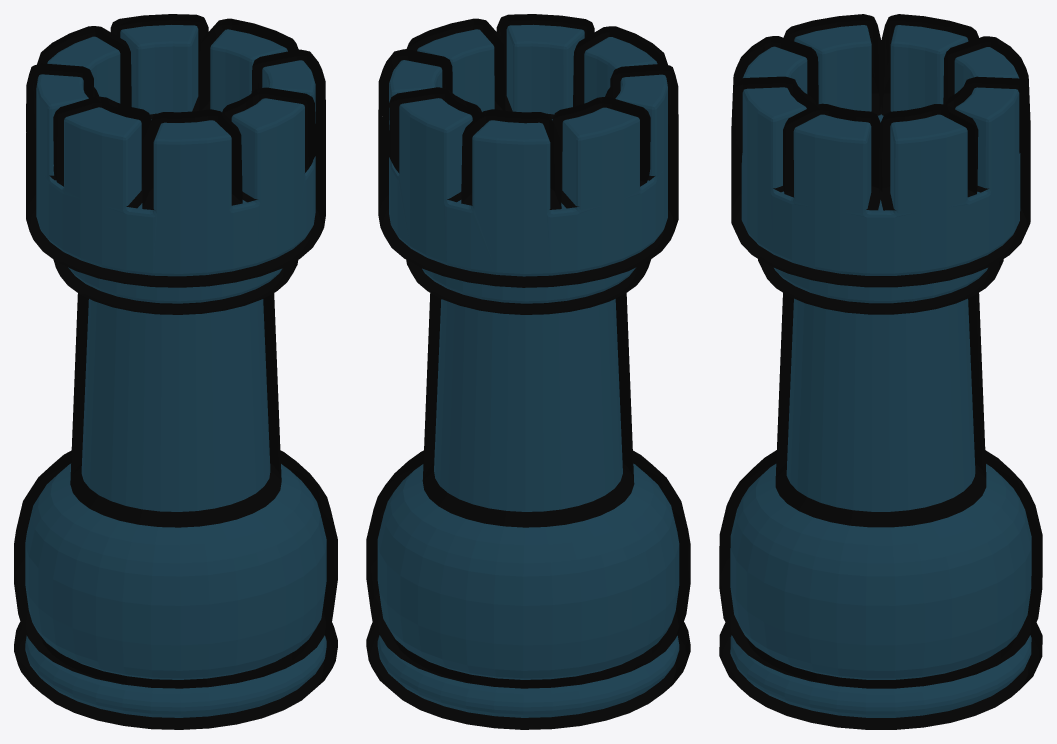
File: cizgi_r_b.glb
3 renders of one model, left to right at view 1: azimuth 30°, elevation 25°; view 2: azimuth 150°, elevation 25°; view 3: azimuth 270°, elevation 25°, orthographic.
Visible parts, largest first — view 1: Body, Outline, Outline7, Outline6, Outline2, Outline8, Outline4, Outline1, Outline5, Outline3; view 2: Body, Outline, Outline4, Outline5, Outline1, Outline3, Outline7, Outline2, Outline6, Outline8; view 3: Body, Outline, Outline1, Outline2, Outline5, Outline6, Outline4, Outline7, Outline8, Outline3.
Part boxes in pixels (left/top/right/bottom): Body: left=25, top=25, right=326, bottom=717; Outline: left=14, top=69, right=337, bottom=729; Outline7: left=142, top=109, right=242, bottom=209; Outline6: left=53, top=96, right=152, bottom=208; Outline2: left=199, top=18, right=298, bottom=110; Outline8: left=222, top=87, right=316, bottom=202; Outline4: left=37, top=26, right=131, bottom=106; Outline1: left=251, top=49, right=325, bottom=165; Outline5: left=26, top=63, right=99, bottom=180; Outline3: left=110, top=14, right=208, bottom=119; Body: left=377, top=24, right=679, bottom=717; Outline: left=366, top=69, right=690, bottom=729; Outline4: left=461, top=109, right=561, bottom=209; Outline5: left=551, top=97, right=650, bottom=208; Outline1: left=406, top=18, right=505, bottom=110; Outline3: left=387, top=87, right=481, bottom=202; Outline7: left=573, top=26, right=667, bottom=106; Outline2: left=378, top=49, right=452, bottom=128; Outline6: left=605, top=63, right=678, bottom=180; Outline8: left=496, top=14, right=594, bottom=118; Body: left=730, top=25, right=1031, bottom=717; Outline: left=719, top=76, right=1042, bottom=729; Outline1: left=783, top=103, right=882, bottom=210; Outline2: left=879, top=104, right=978, bottom=210; Outline5: left=879, top=14, right=978, bottom=115; Outline6: left=783, top=14, right=882, bottom=115; Outline4: left=943, top=36, right=1030, bottom=124; Outline7: left=731, top=36, right=818, bottom=123; Outline8: left=731, top=76, right=816, bottom=192; Outline3: left=945, top=76, right=1030, bottom=192.
Bounding box in the file's own units: 0.0293 × 0.0597 × 0.0293.
